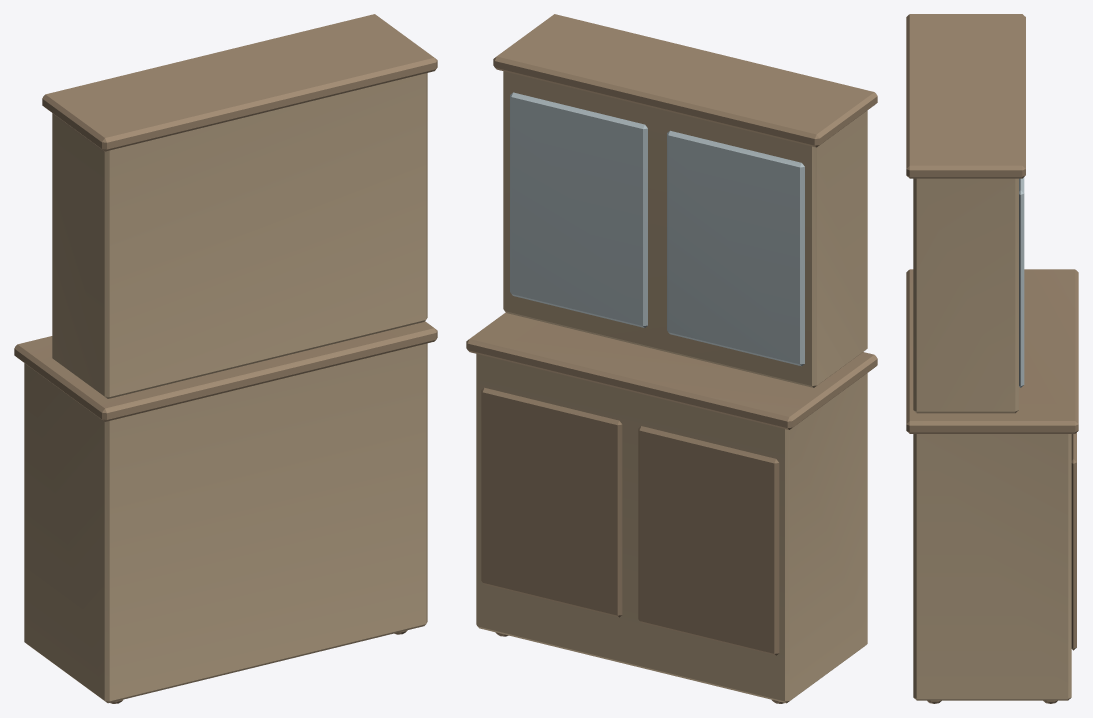
The model's file is furn_cupboard__oak.glb.
The picture shows the model from 3 angles, left to right: view 1: azimuth 30°, elevation 25°; view 2: azimuth 150°, elevation 25°; view 3: azimuth 270°, elevation 25°; orthographic projection. The views are drawn at different scales.
Size of the model in its own units: 1.04 by 1.71 by 0.49.
